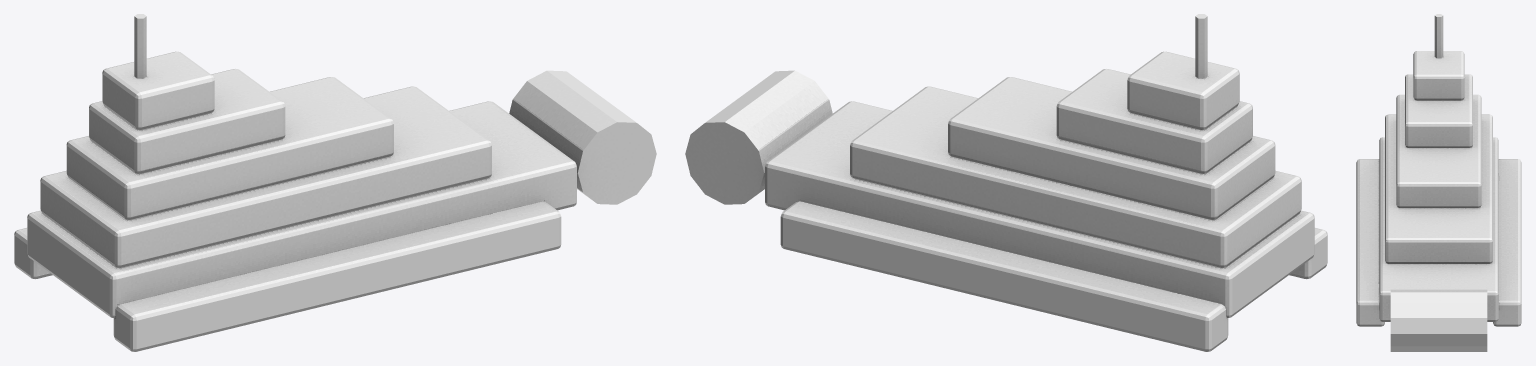
File: base_holo_rhodes.glb
3 views of the same model, side by side, from view 1: azimuth 30°, elevation 25°; view 2: azimuth 150°, elevation 25°; view 3: azimuth 270°, elevation 25° (orthographic). The views are drawn at different scales.
Visible parts, largest first — view 1: base_holo_rhodes; view 2: base_holo_rhodes; view 3: base_holo_rhodes.
Boxes of the visible parts, x1=… form: base_holo_rhodes: x1=14, y1=14, x2=656, y2=351; base_holo_rhodes: x1=685, y1=14, x2=1327, y2=351; base_holo_rhodes: x1=1356, y1=14, x2=1521, y2=351.
Size of the model in its own units: 1.54 by 0.74 by 0.58.
Materials: 1 (1 with a texture image).
